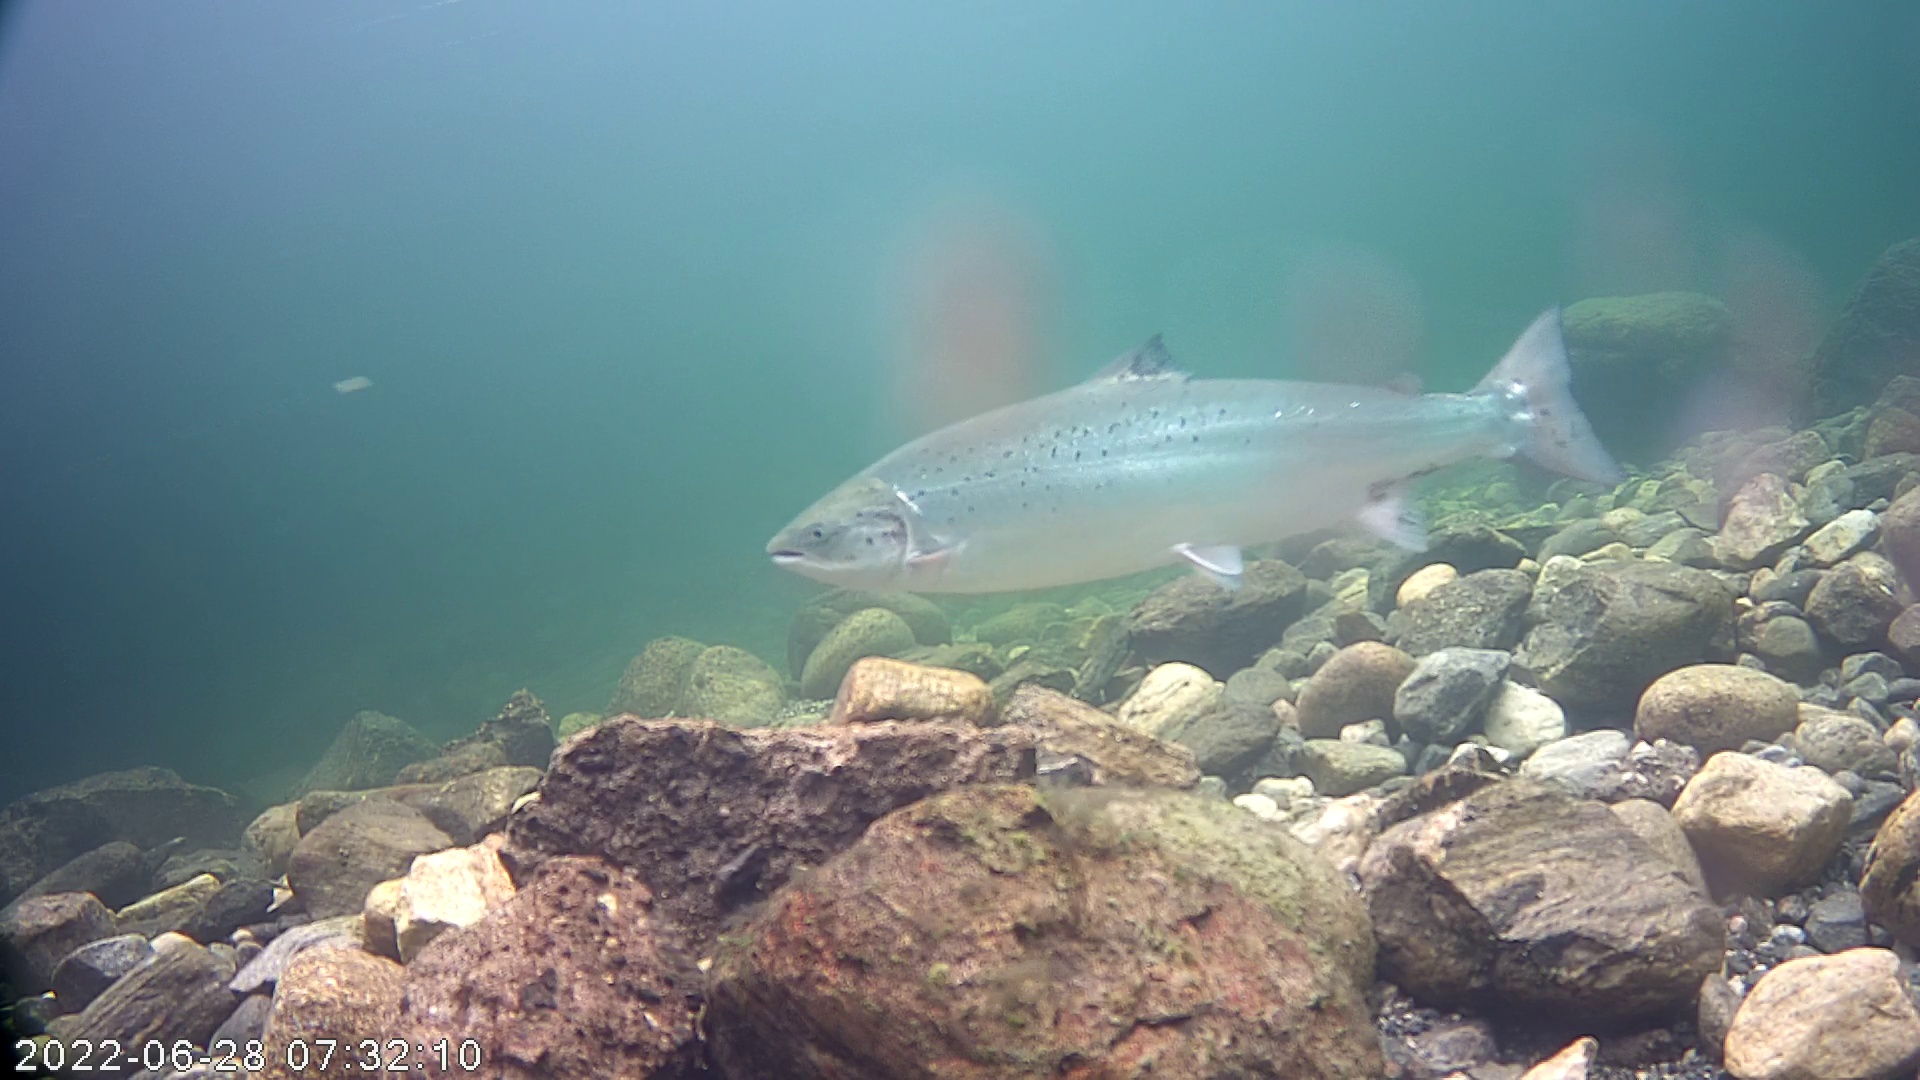salmon: (761, 216, 1648, 646)
